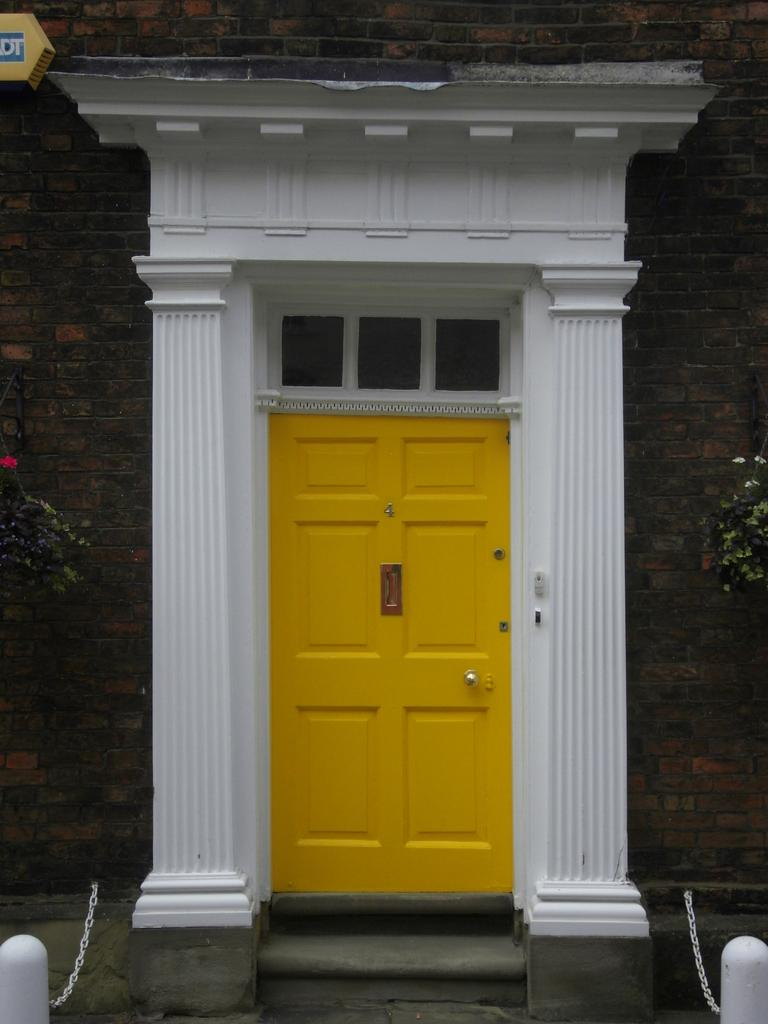handle: (458, 656, 480, 706)
